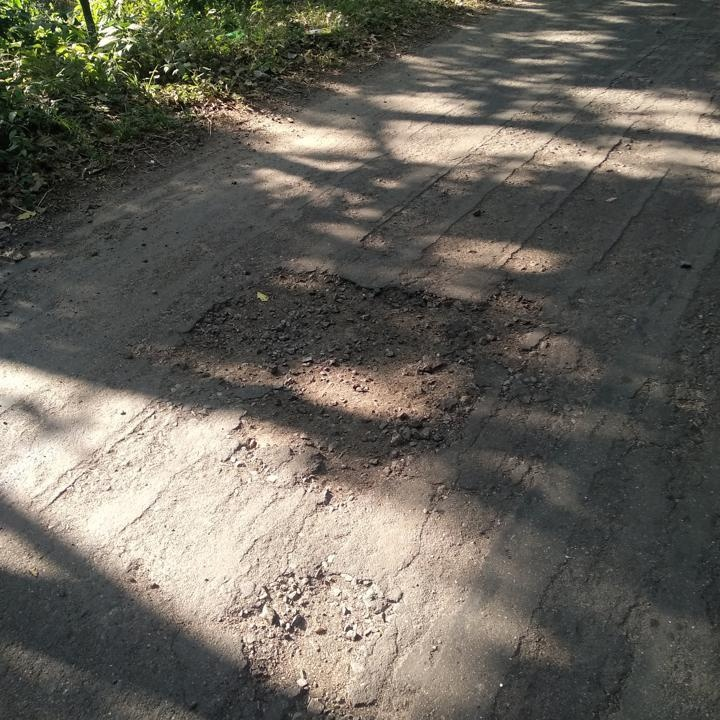pothole: (166, 267, 537, 502), (231, 567, 397, 718)
